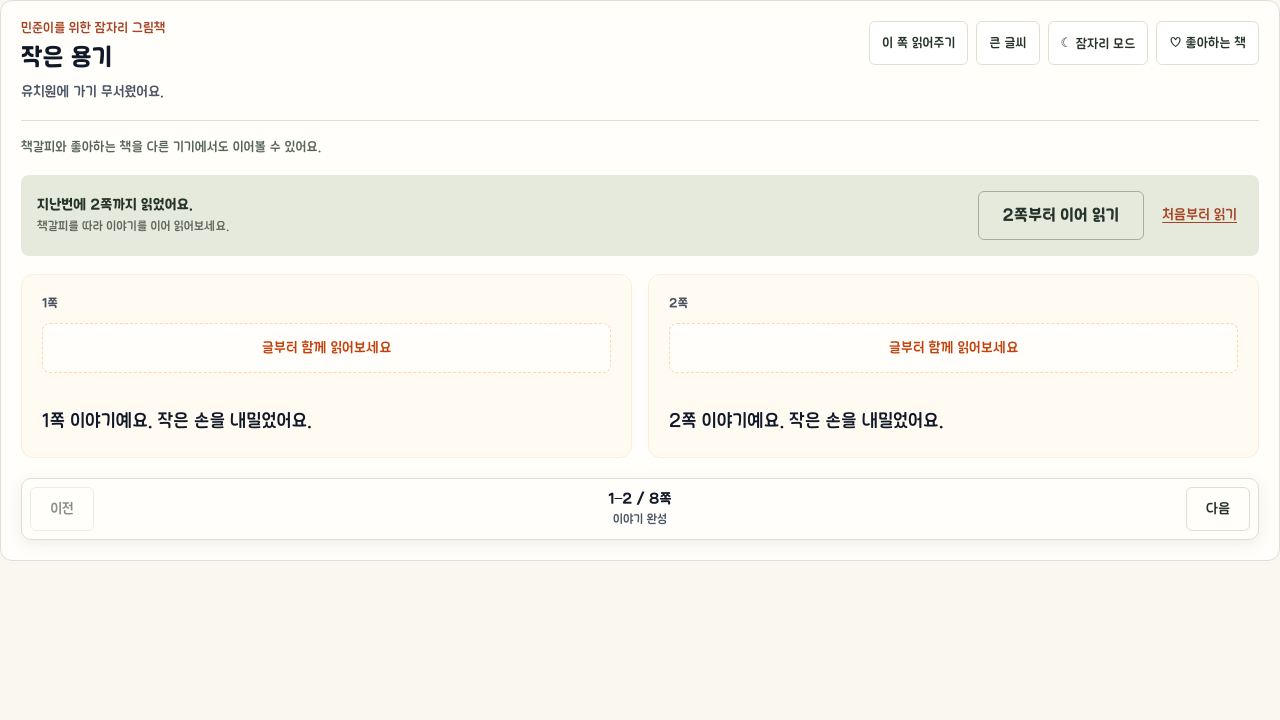
Test case: private reading preferences › dismisses resume when a mobile bookmark belongs to the current desktop spread
Click the button "2쪽부터 이어 읽기" at (1061, 215), box [978, 191, 1144, 240]
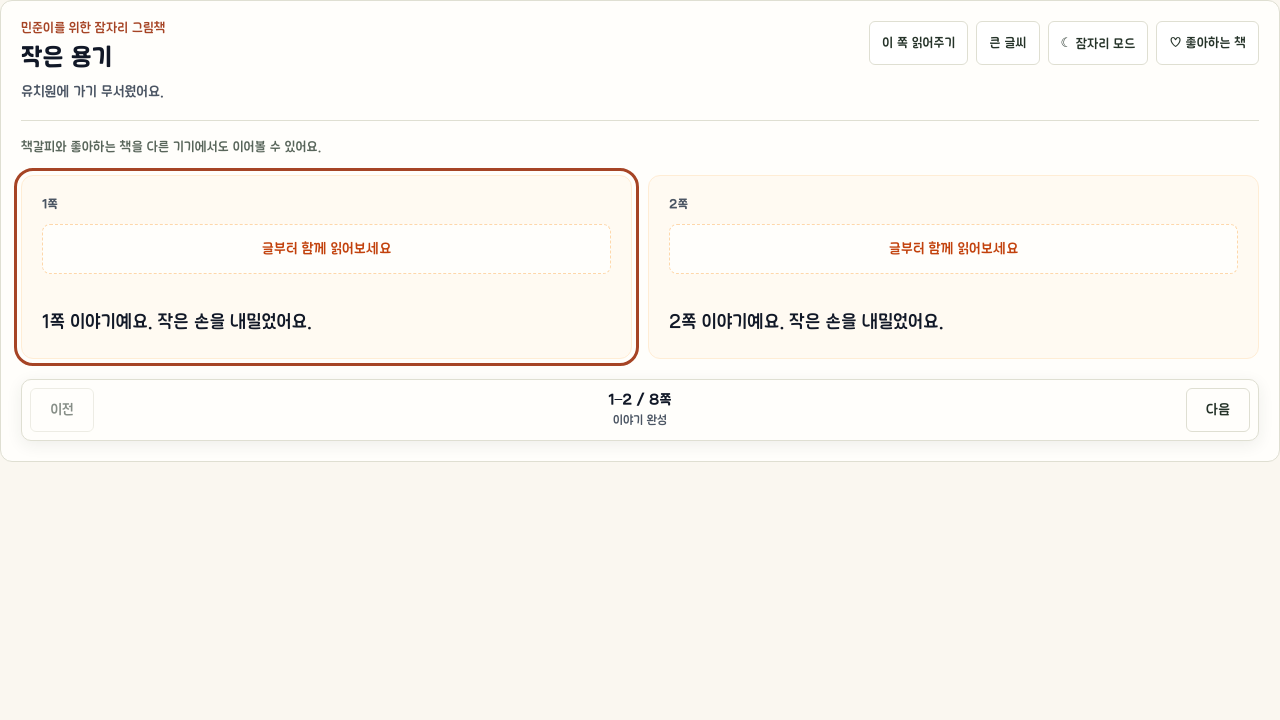
Expected: the button "2쪽부터 이어 읽기" is gone
